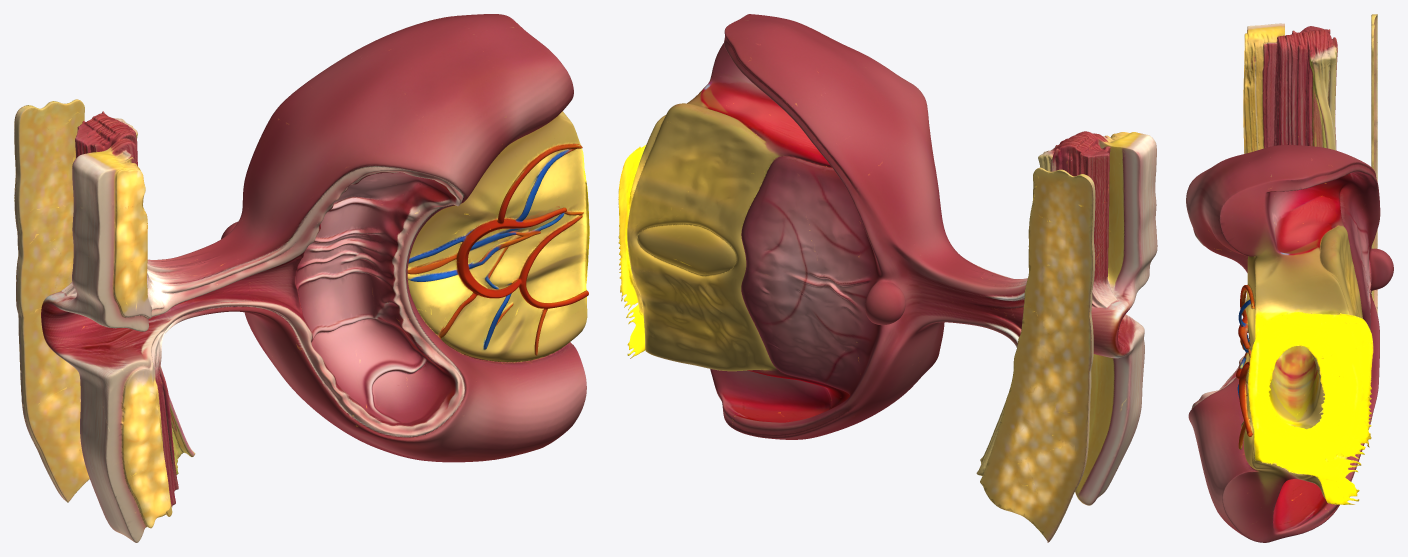
Rendered from fisitulavitelina-v1.glb.
3 views of the same model, side by side, from view 1: azimuth 30°, elevation 25°; view 2: azimuth 150°, elevation 25°; view 3: azimuth 270°, elevation 25° (orthographic). The views are drawn at different scales.
Bounding box in the file's own units: 1.9 × 1.51 × 0.7748.
Materials: 1 (1 with a texture image).
